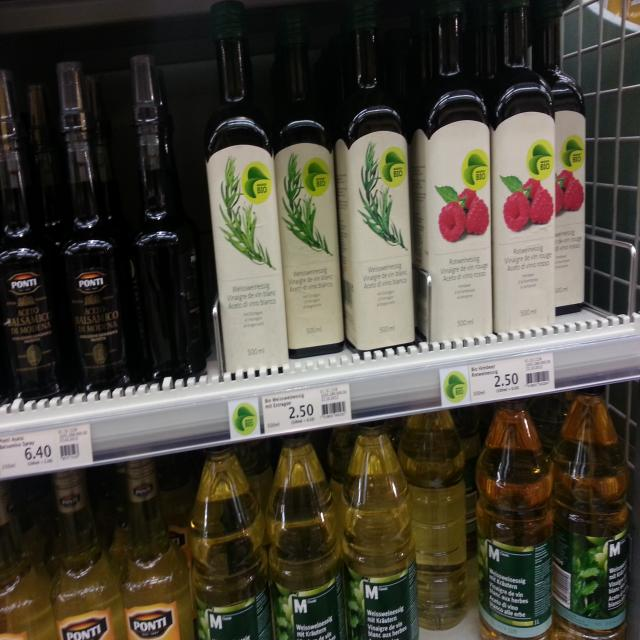Oil-Vinegar: (197, 0, 290, 373), (262, 0, 348, 357), (40, 64, 134, 388), (121, 43, 210, 380), (410, 0, 493, 342), (339, 0, 415, 354), (489, 0, 556, 334), (557, 383, 631, 640), (477, 402, 557, 636), (0, 74, 59, 391), (264, 438, 346, 640), (342, 424, 418, 639), (402, 412, 470, 632), (187, 452, 266, 640), (542, 1, 586, 316), (50, 472, 127, 640), (119, 465, 190, 640)
